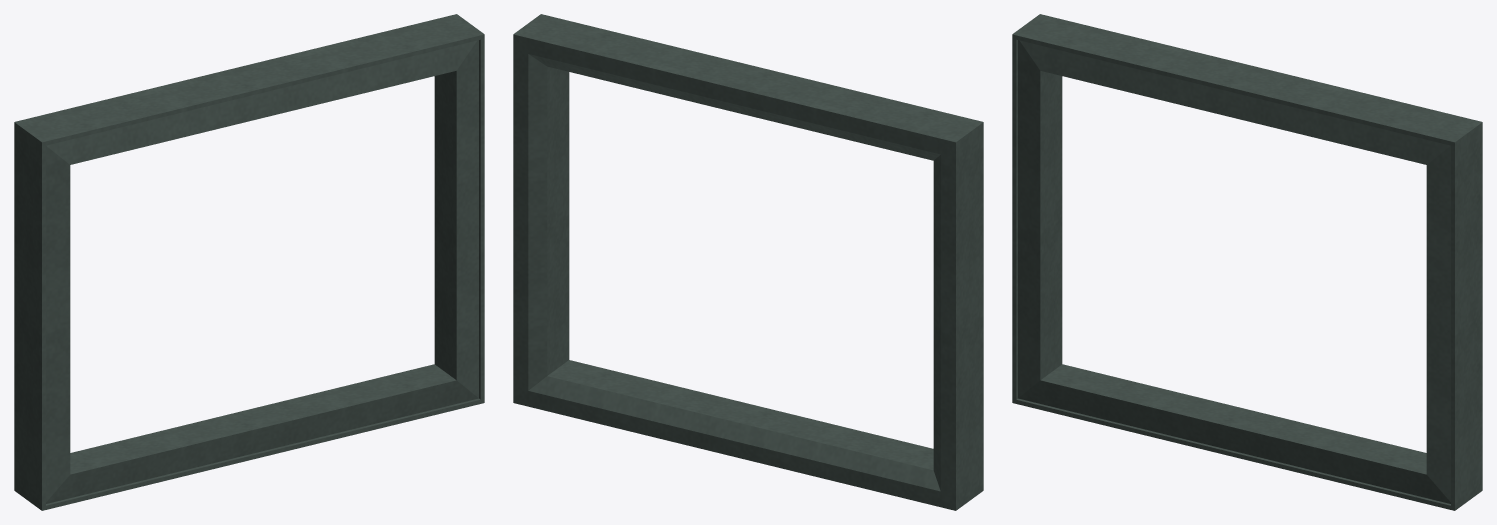
File: modern-recessed-window-surround.lod0.glb
3 renders of one model, left to right at view 1: azimuth 30°, elevation 25°; view 2: azimuth 150°, elevation 25°; view 3: azimuth 330°, elevation 25°, orthographic.
Parts seen in each view (by area): view 1: modern-recessed-window-surround; view 2: modern-recessed-window-surround; view 3: modern-recessed-window-surround.
Part boxes in pixels (x1,y1,x2,y2): modern-recessed-window-surround: (14, 14, 484, 510); modern-recessed-window-surround: (513, 14, 983, 510); modern-recessed-window-surround: (1012, 14, 1482, 510).
Bounding box in the file's own units: 2.2 × 1.75 × 0.24.
Materials: 1 (1 with a texture image).
